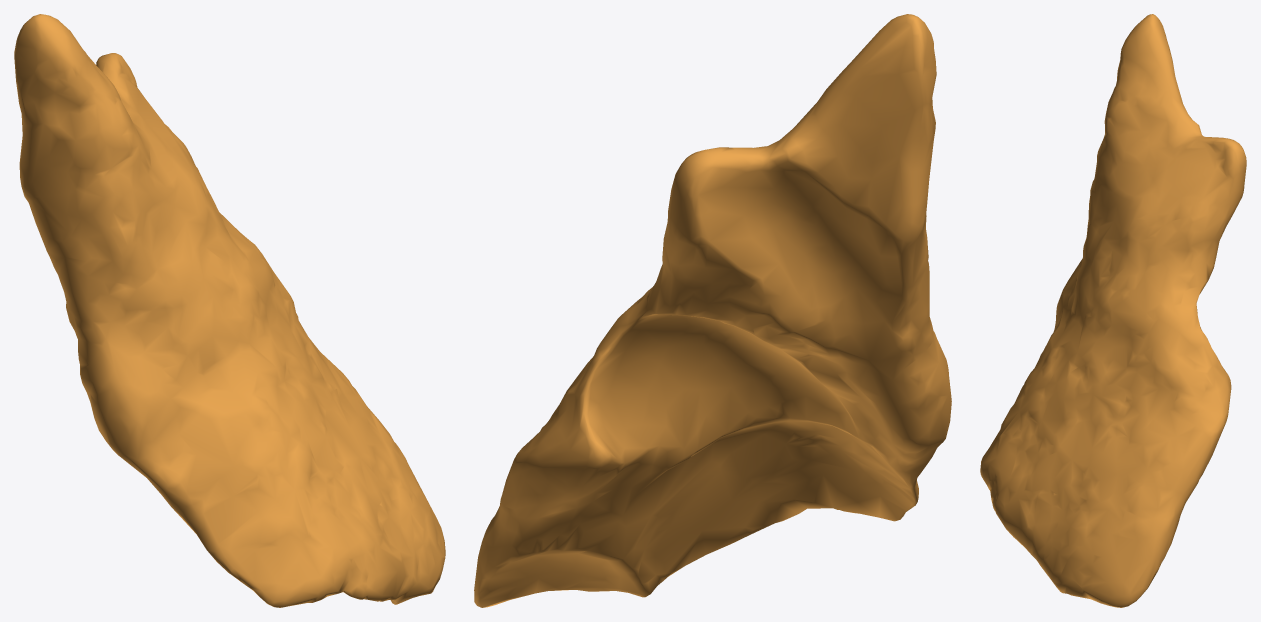
Rendered from linfatico-left-lobe-of-thymus.glb.
3 views of the same model, side by side, from view 1: azimuth 30°, elevation 25°; view 2: azimuth 150°, elevation 25°; view 3: azimuth 270°, elevation 25° (orthographic). The views are drawn at different scales.
Parts seen in each view (by area): view 1: Left lobe of thymus; view 2: Left lobe of thymus; view 3: Left lobe of thymus.
Part boxes in pixels (x1=…): Left lobe of thymus: x1=14, y1=14, x2=445, y2=607; Left lobe of thymus: x1=474, y1=14, x2=951, y2=607; Left lobe of thymus: x1=980, y1=14, x2=1246, y2=607.
Size of the model in its own units: 0.0379 by 0.0553 by 0.0292.
